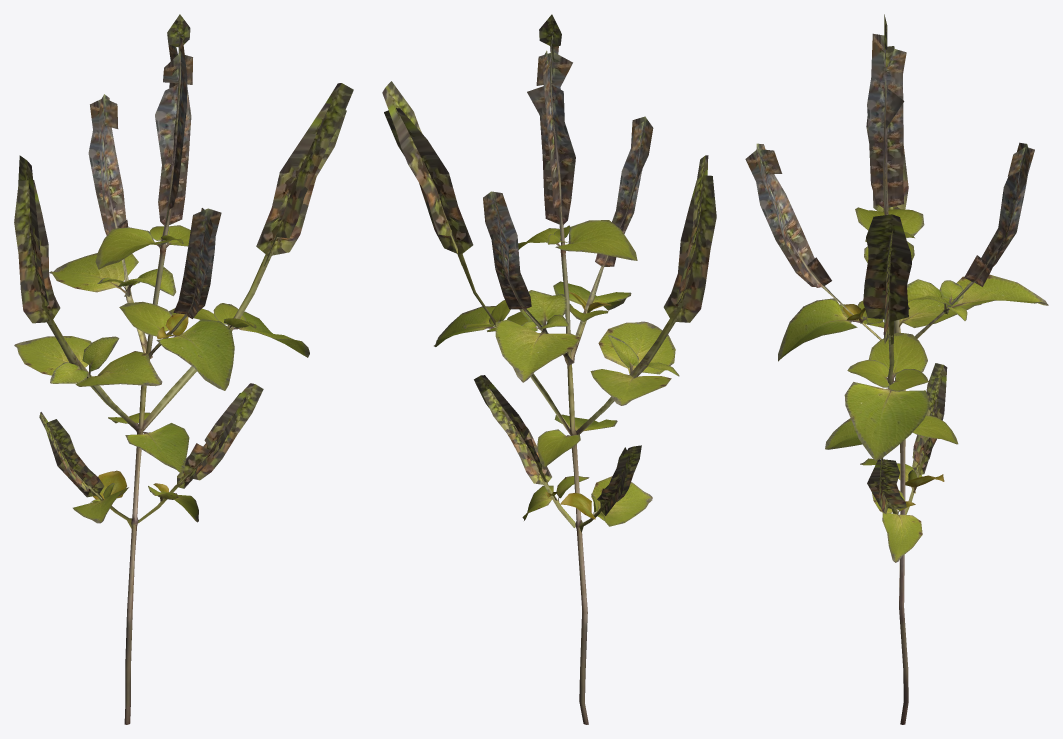
Rendered from shrub.glb.
The picture shows the model from 3 angles, left to right: view 1: azimuth 30°, elevation 25°; view 2: azimuth 150°, elevation 25°; view 3: azimuth 270°, elevation 25°; orthographic projection. The views are drawn at different scales.
Parts seen in each view (by area): view 1: shrub_03_a; view 2: shrub_03_a; view 3: shrub_03_a.
Boxes of the visible parts, x1,y1,x2,y2 form: shrub_03_a: [14, 14, 353, 724]; shrub_03_a: [382, 14, 716, 724]; shrub_03_a: [745, 14, 1048, 724].
Bounding box in the file's own units: 0.2006 × 0.4028 × 0.1512.
1 material, 1 textured.
